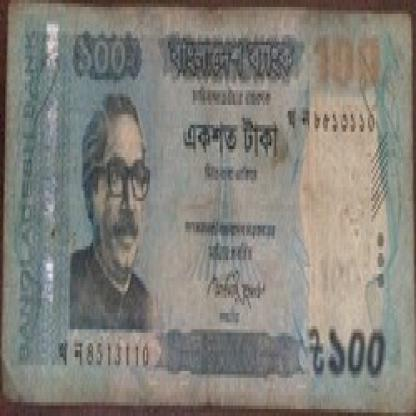one hundred taka: (324, 315, 392, 382), (313, 28, 384, 90), (73, 21, 143, 83)
